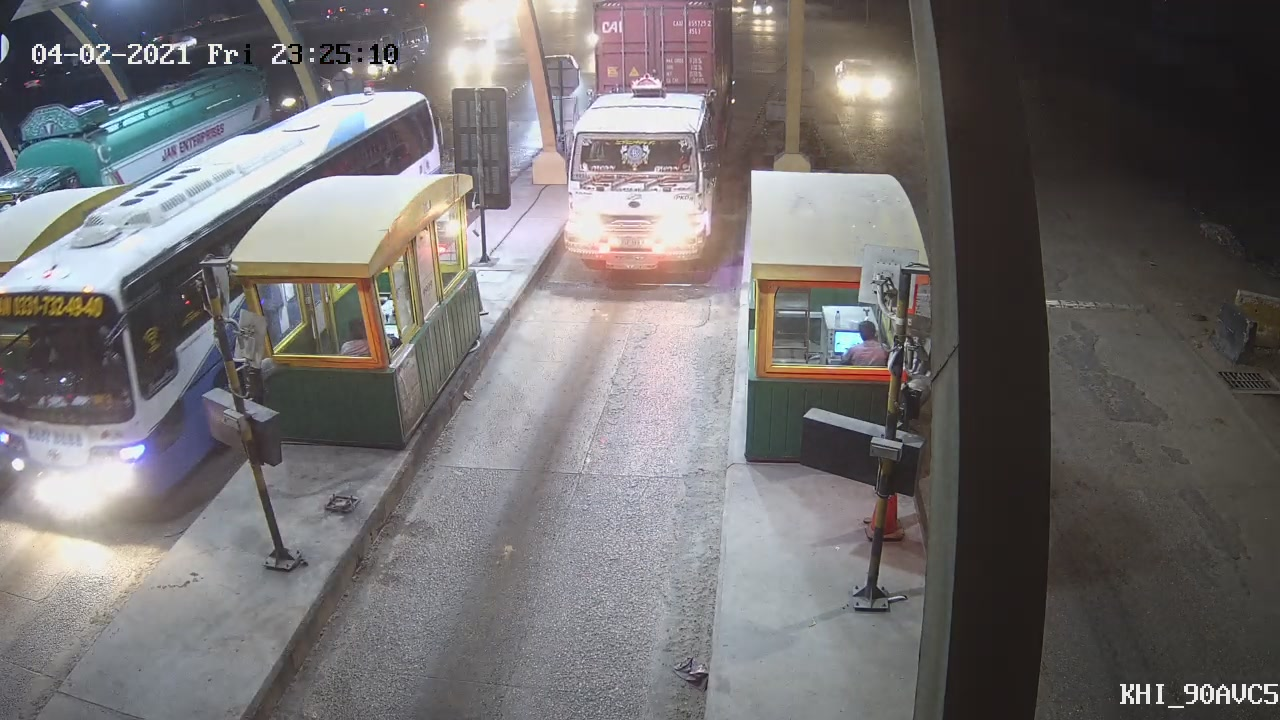F6: (552, 46, 730, 286)
